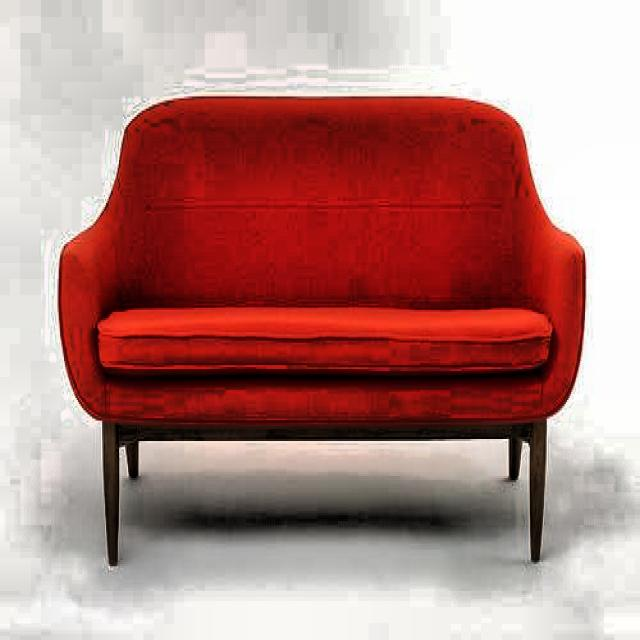sofa: (56, 94, 588, 568)
